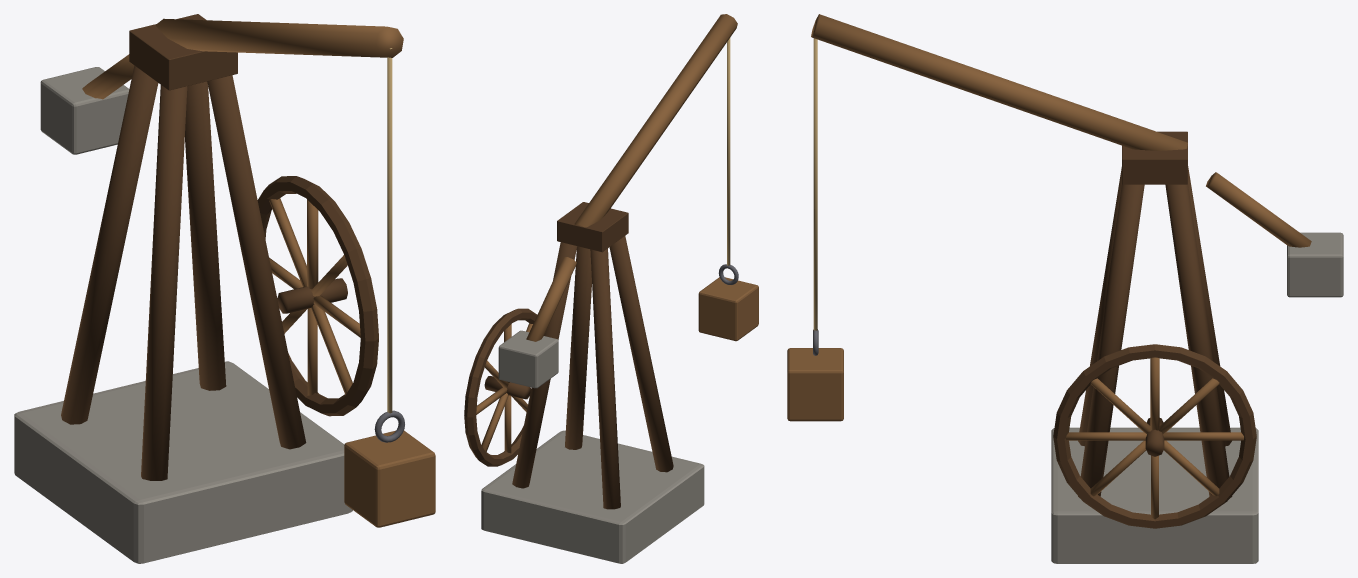
File: kran.glb
3 renders of one model, left to right at view 1: azimuth 30°, elevation 25°; view 2: azimuth 150°, elevation 25°; view 3: azimuth 270°, elevation 25°, orthographic. The views are drawn at different scales.
Parts seen in each view (by area): view 1: Cube; view 2: Cube; view 3: Cube.
Boxes of the visible parts, x1,y1,x2,y2 form: Cube: (14, 14, 435, 563); Cube: (464, 14, 758, 563); Cube: (787, 14, 1343, 563).
Bounding box in the file's own units: 2.7 × 5.93 × 5.9.
